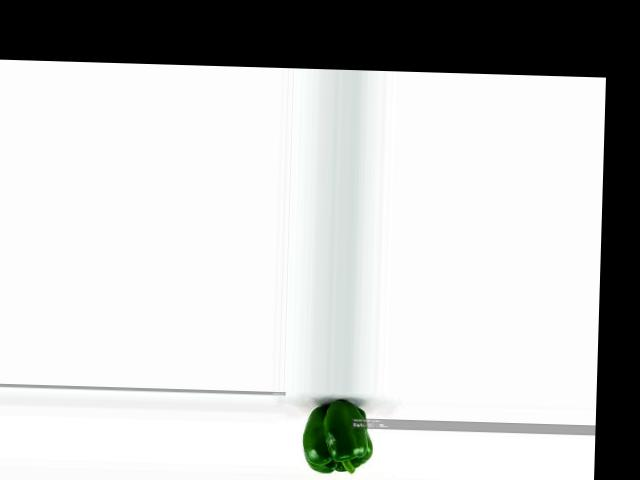bell_pepper: (299, 395, 373, 478)
